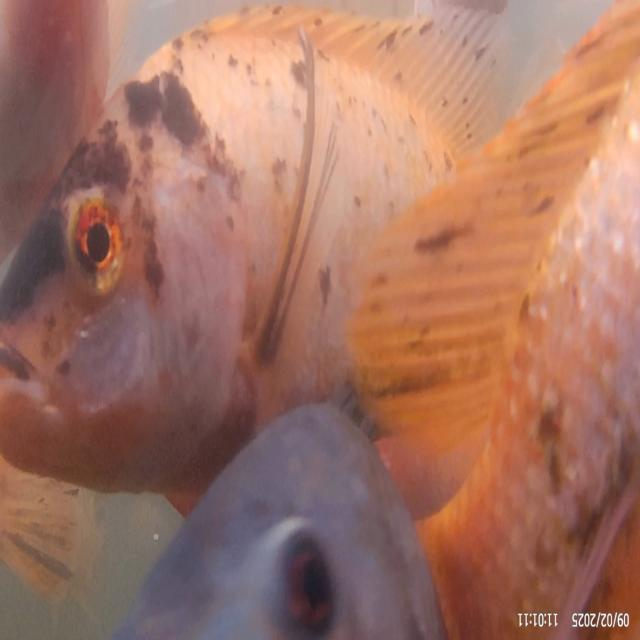ikan: (2, 1, 570, 489), (112, 399, 449, 637)
